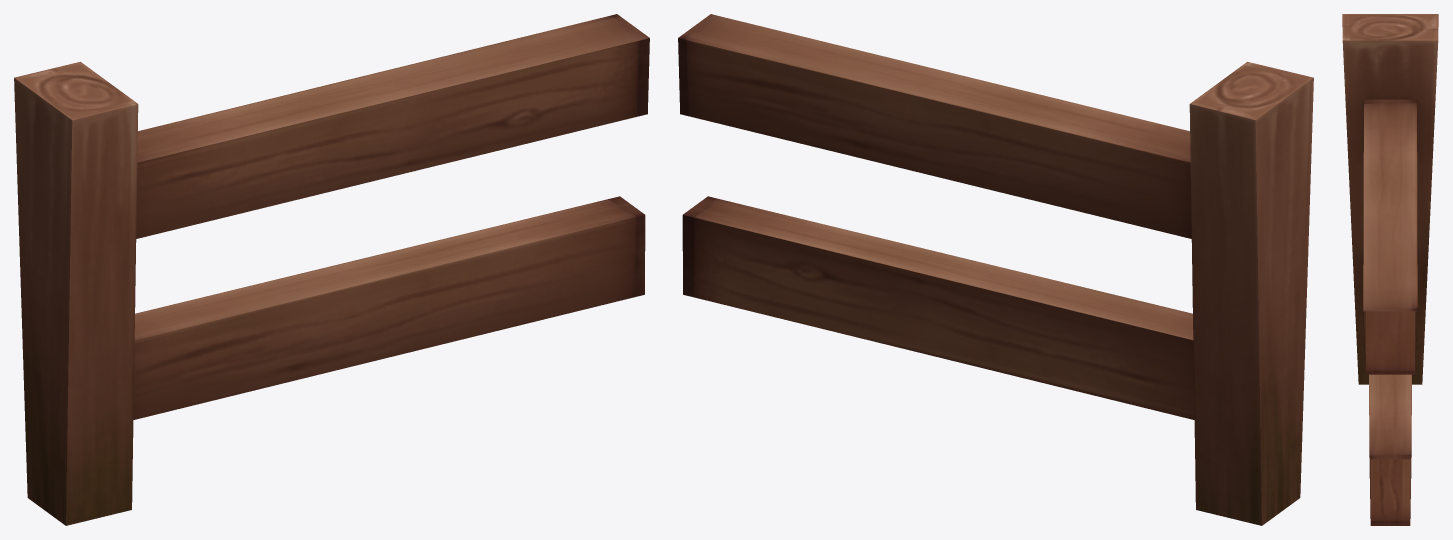
File: fence_wood.obj
3 renders of one model, left to right at view 1: azimuth 30°, elevation 25°; view 2: azimuth 150°, elevation 25°; view 3: azimuth 270°, elevation 25°, orthographic. The views are drawn at different scales.
Parts seen in each view (by area): view 1: fence_wood; view 2: fence_wood; view 3: fence_wood.
Boxes of the visible parts, box(x1,y1,x2,y2) form: fence_wood: box(14, 14, 649, 525); fence_wood: box(678, 14, 1313, 525); fence_wood: box(1342, 14, 1438, 525).
Size of the model in its own units: 4.14 by 2.78 by 0.7081.
1 material, 1 textured.
